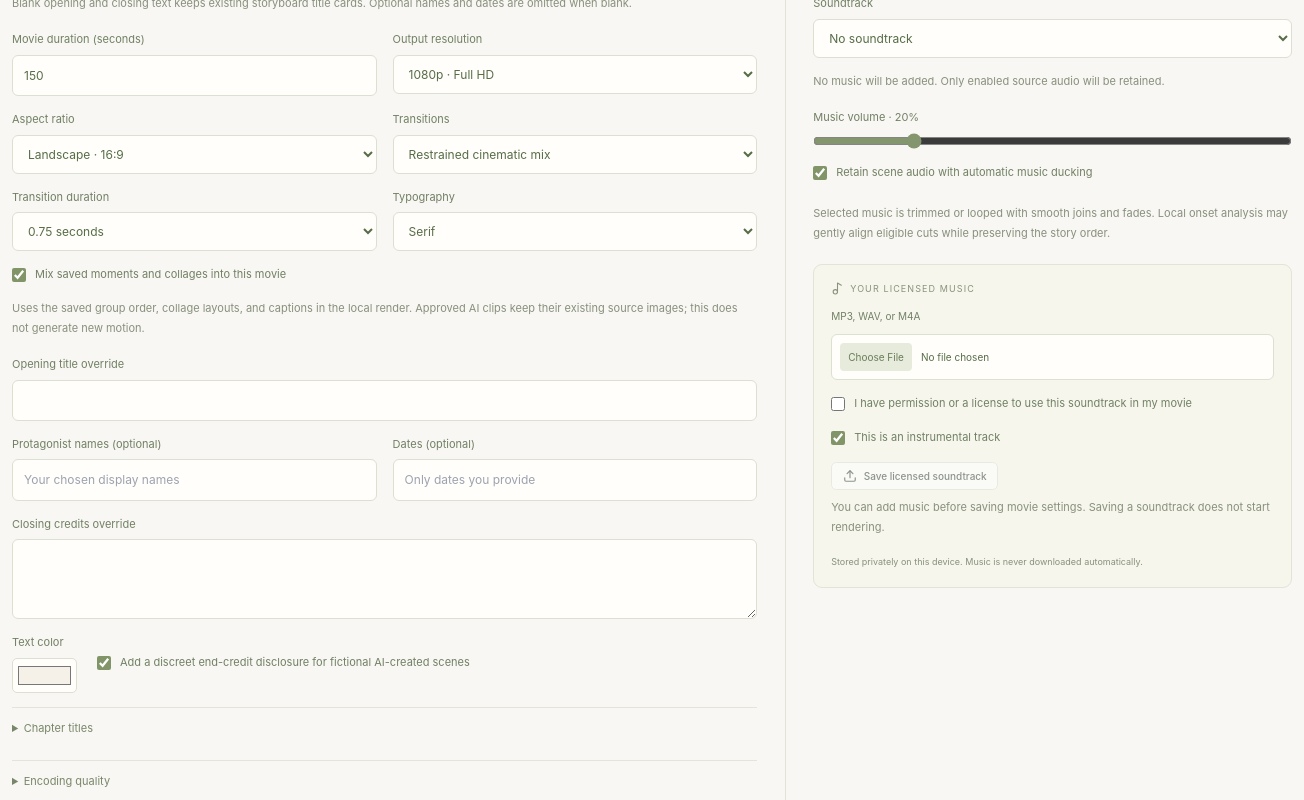
Test: private local movie assembly › saves Unicode titles, audio and output settings with CSRF before allowing a render
(page scrolled)
Type "הסיפור שלנו · わたしたち" into the field named "Opening movie title" at [385, 400], box [12, 380, 757, 421]
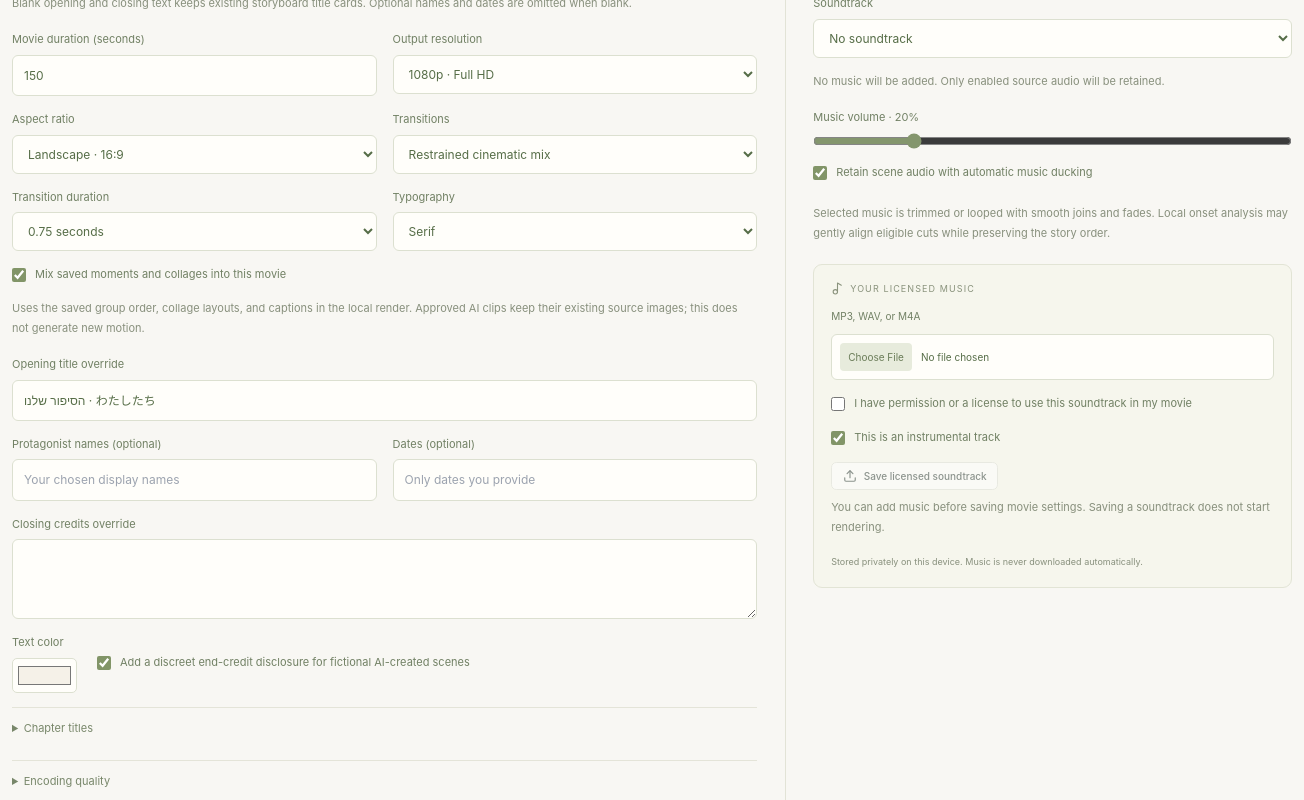
Select "720p · HD" in the dropdown named "Movie output resolution" at [575, 74], box [393, 55, 757, 94]
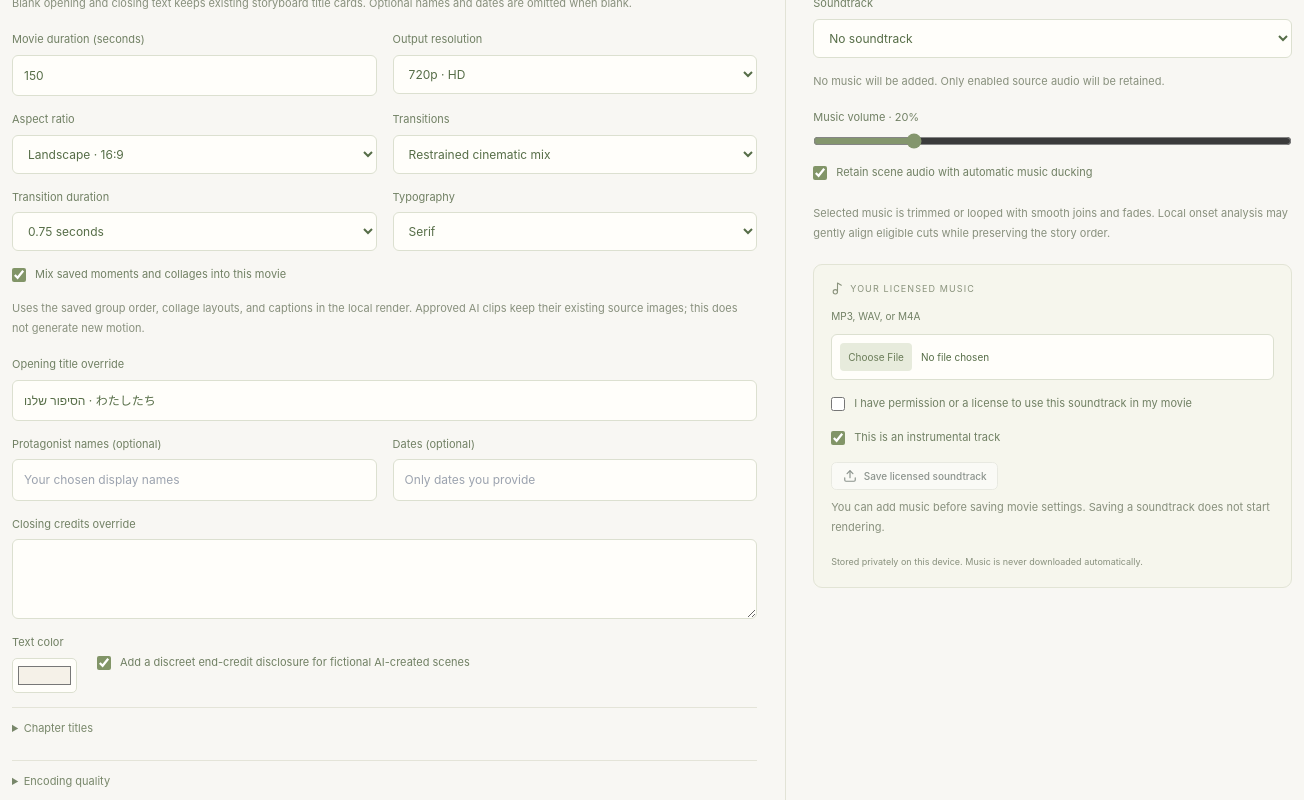
Select "Portrait · 9:16" in the dropdown named "Movie aspect ratio" at [194, 154], box [12, 135, 377, 174]
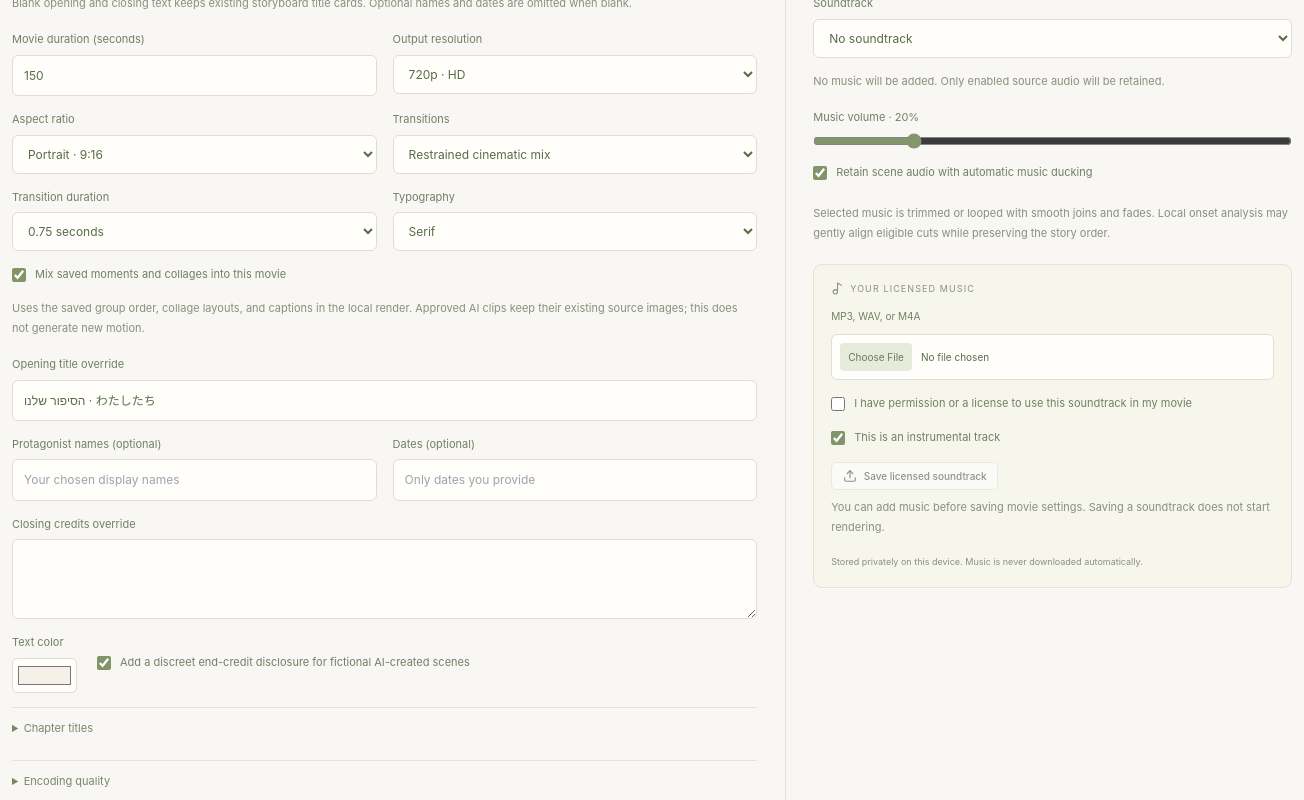
Set the slider labelled "Music volume · 20%" to "0.35" at [983, 141], box [813, 133, 1292, 149]
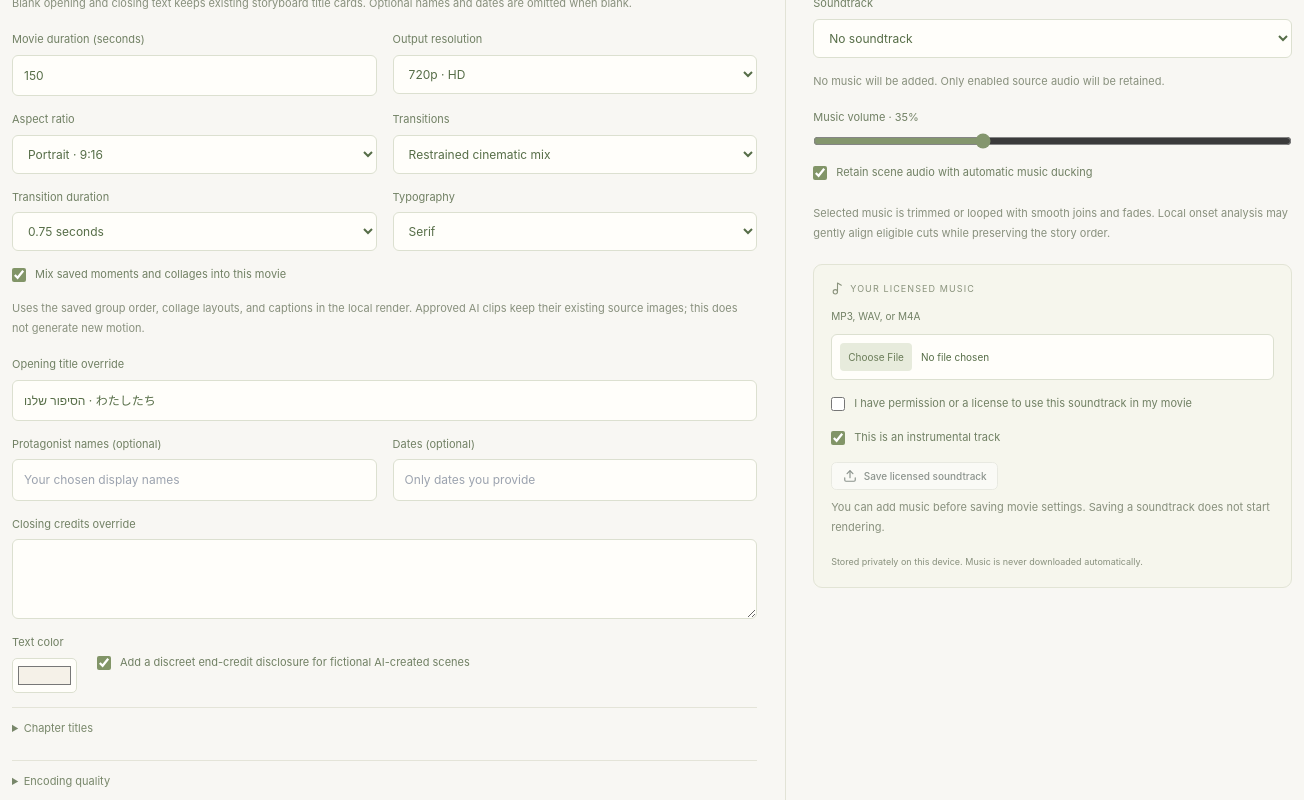
Click the checkbox labelled "Retain scene audio with automatic music ducking" at [820, 173], box [813, 166, 827, 180]
(page scrolled)
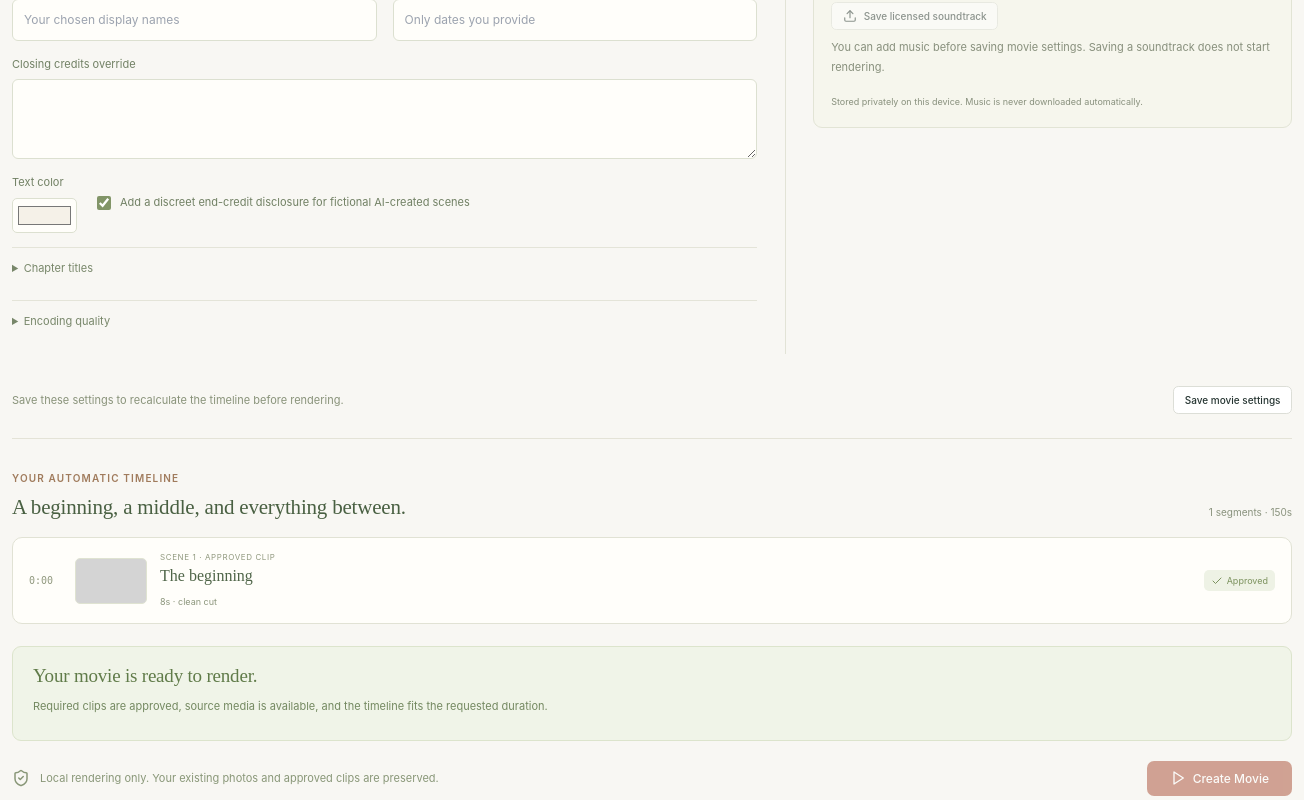
Check: the button "Create Movie" is disabled, box [1147, 761, 1292, 796]
Click the button "Save movie settings" at [1233, 400], box [1173, 386, 1292, 414]
(page scrolled)
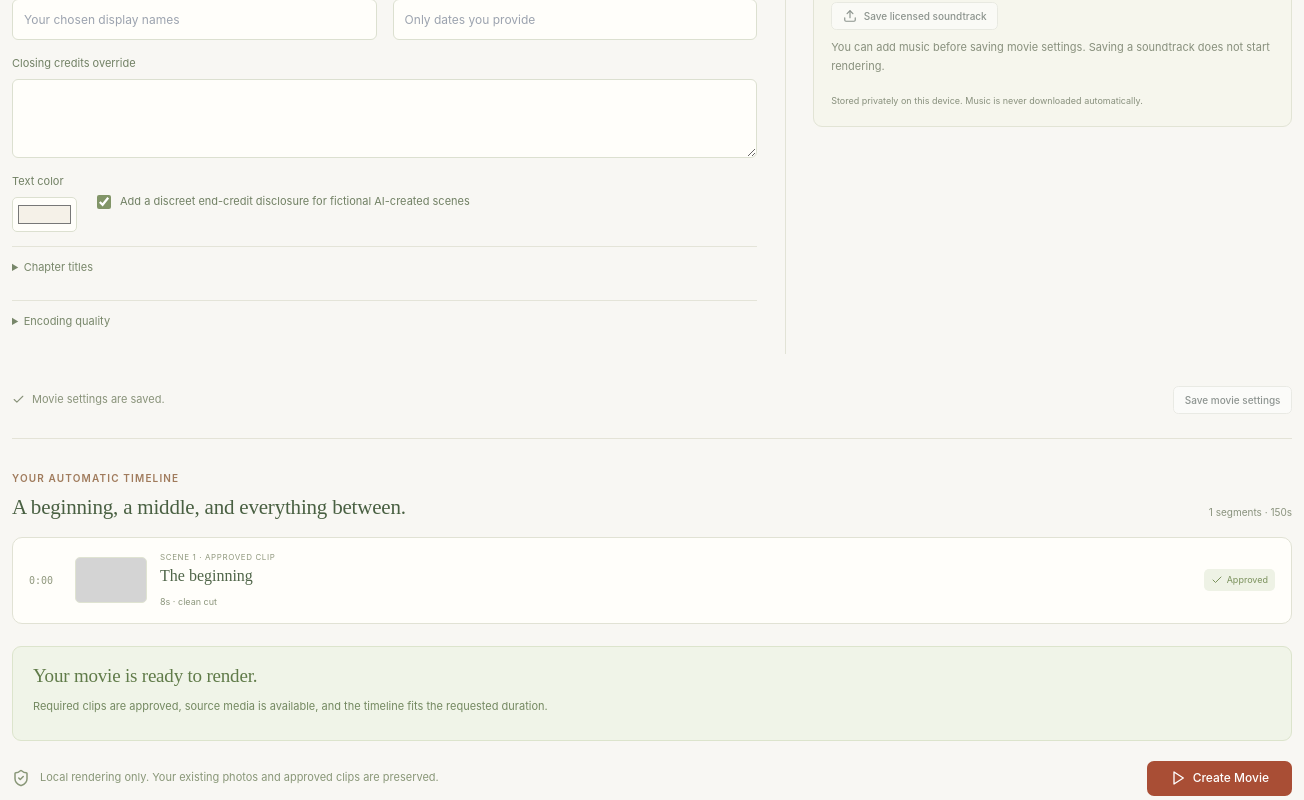
Check: the button "Create Movie" is enabled, box [1147, 760, 1292, 796]
